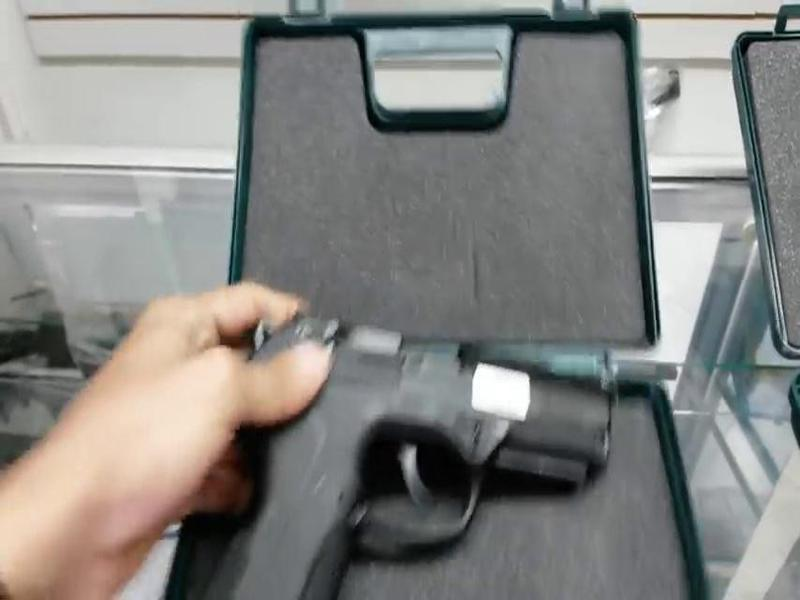Pistola: (207, 285, 620, 600)
